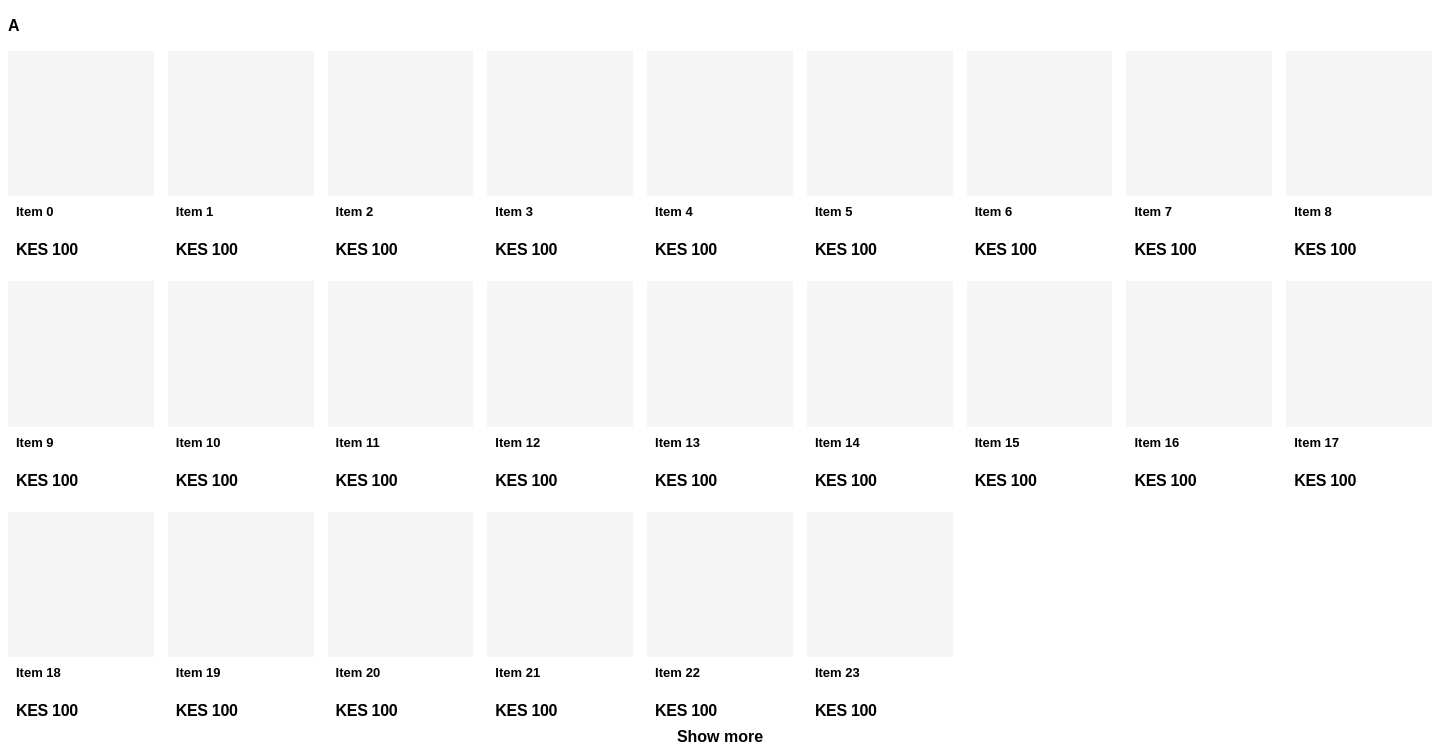
Test: Services on the store page › pages 24 at a time and keeps the order stable
(page scrolled)
Click the button "Show more".
click(720, 737)  # box [677, 728, 763, 746]
(page scrolled)
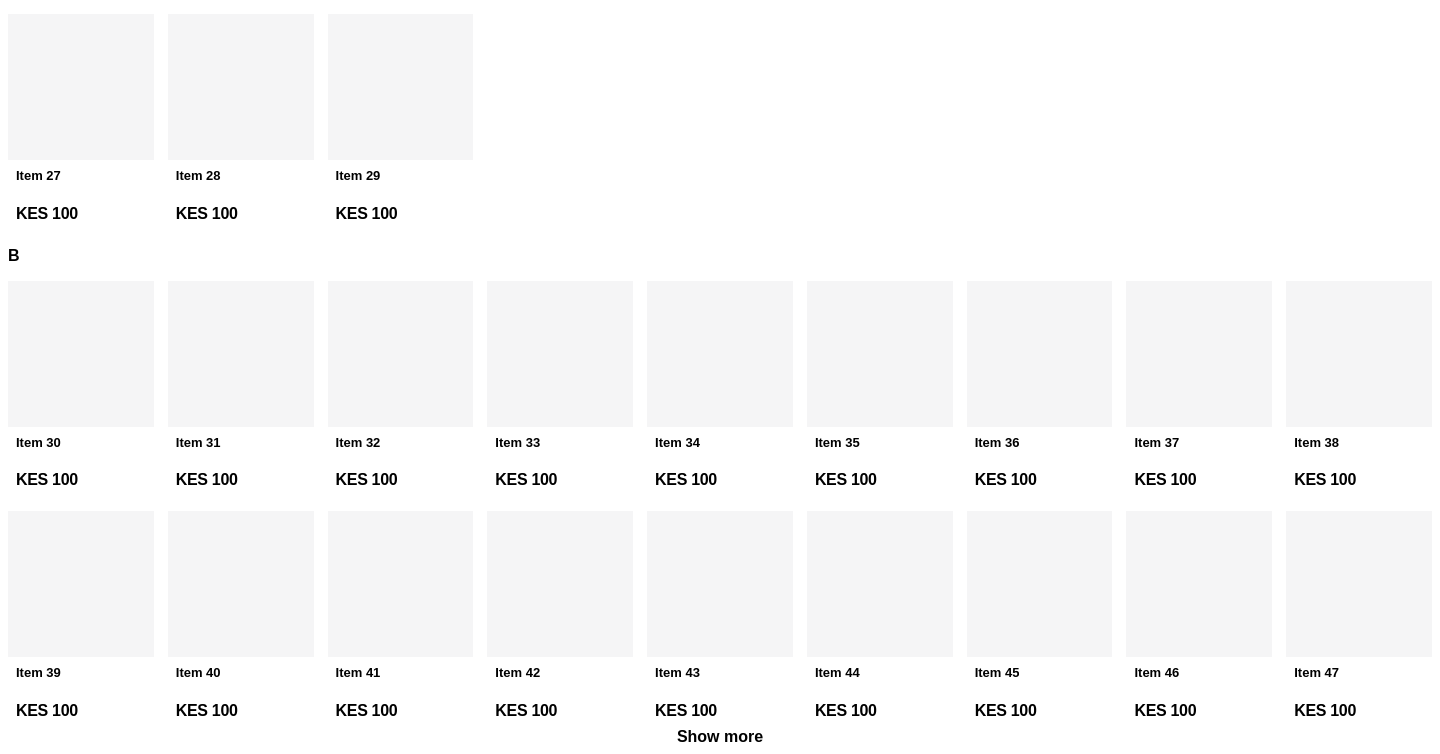
Click the button "Show more".
click(720, 737)  # box [677, 728, 763, 746]
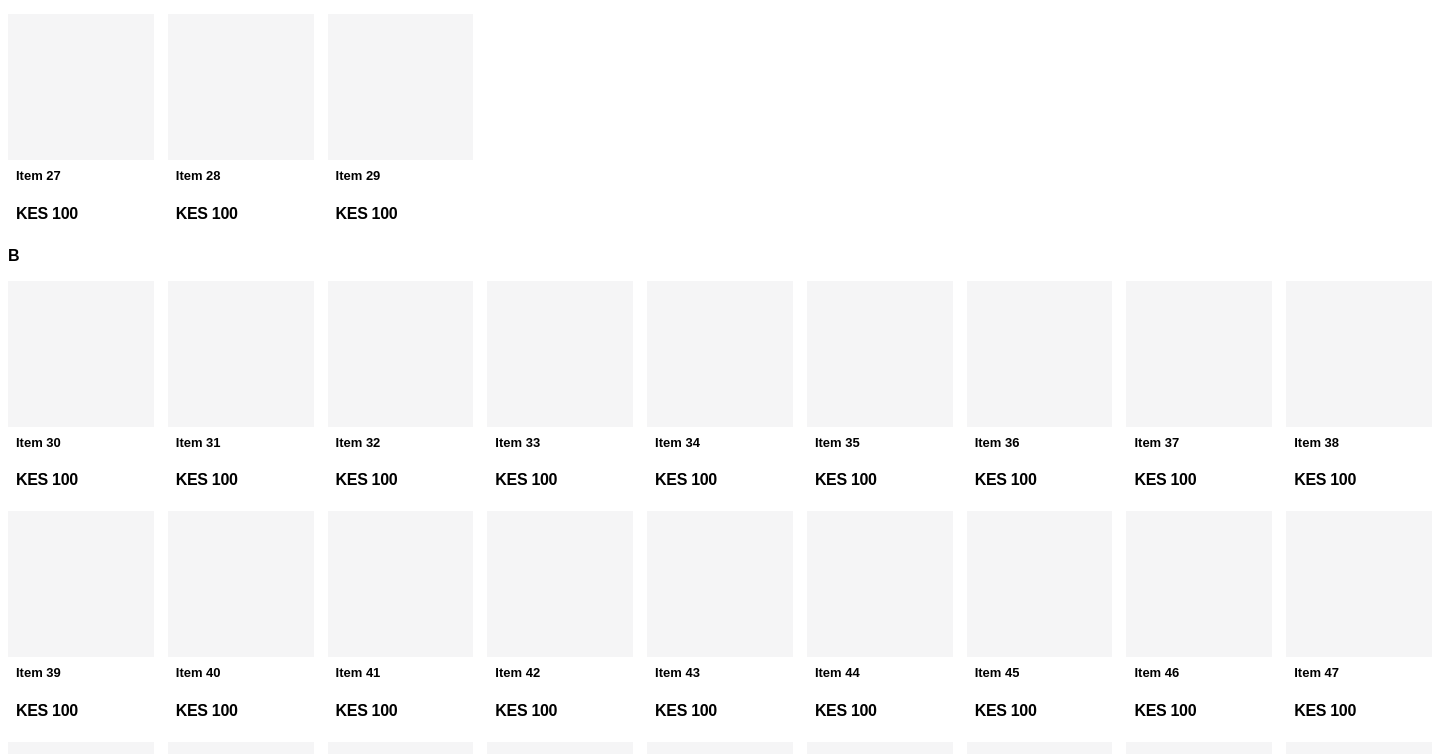
Result: the button "Show more" is gone
